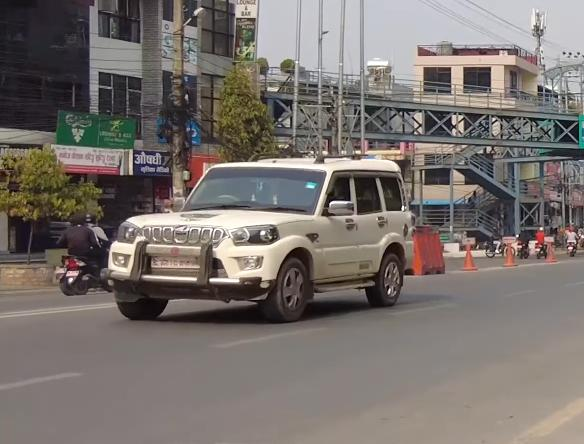SUV: (102, 143, 415, 325)
scooter: (61, 244, 117, 297)
